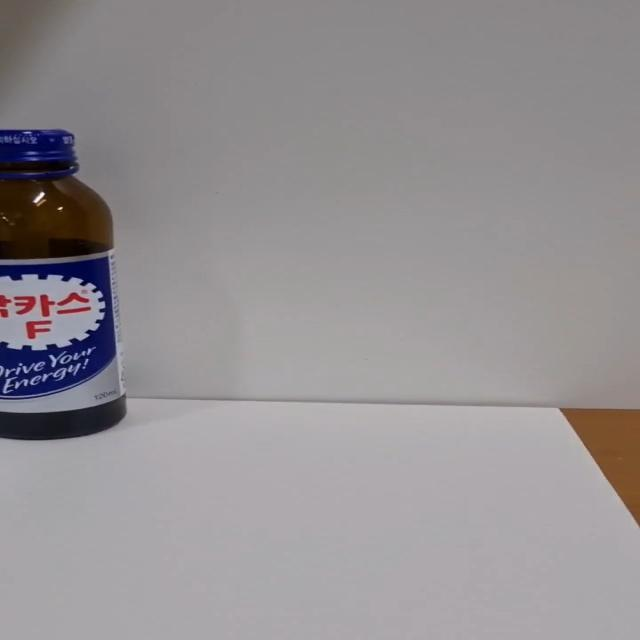Glass: (0, 130, 128, 444)
